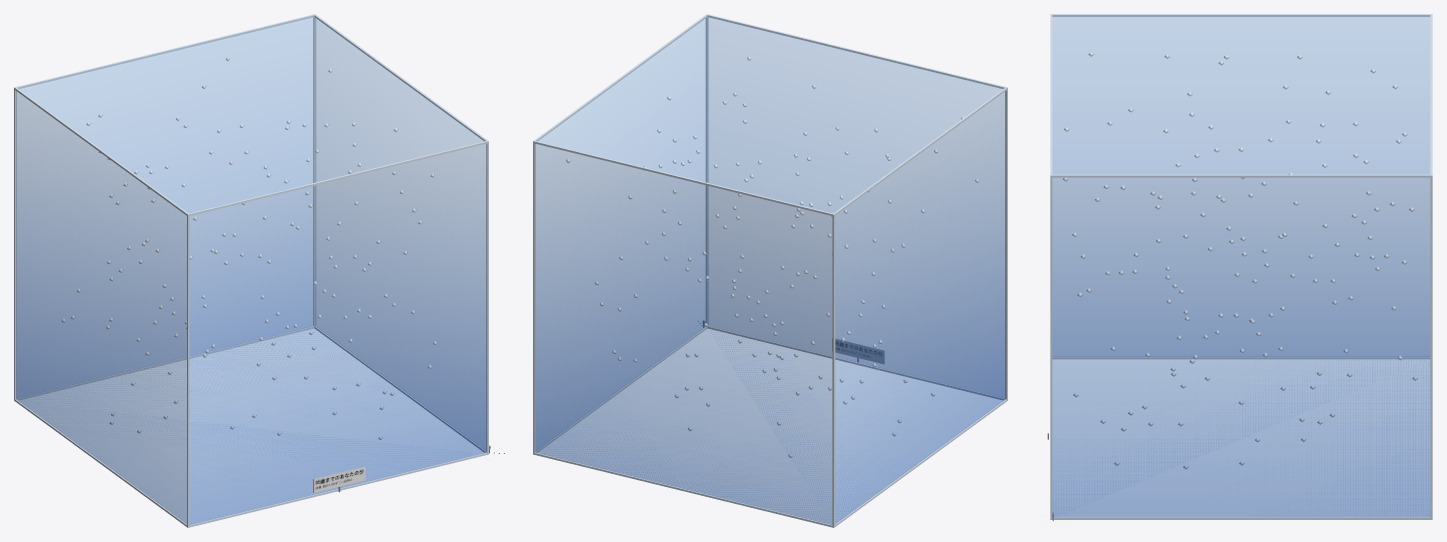
File: cube_life_95.glb
3 renders of one model, left to right at view 1: azimuth 30°, elevation 25°; view 2: azimuth 150°, elevation 25°; view 3: azimuth 270°, elevation 25°, orthographic. The views are drawn at different scales.
Parts seen in each view (by area): view 1: co2, edge, dots, label; view 2: co2, edge, dots, label; view 3: co2, edge, dots.
Part boxes in pixels (bbox=[...]): co2: bbox=[16, 15, 486, 524]; edge: bbox=[14, 14, 488, 527]; dots: bbox=[62, 57, 437, 440]; label: bbox=[313, 466, 365, 492]; co2: bbox=[535, 15, 1005, 524]; edge: bbox=[533, 14, 1007, 527]; dots: bbox=[566, 56, 979, 457]; label: bbox=[835, 339, 884, 363]; co2: bbox=[1052, 15, 1430, 517]; edge: bbox=[1050, 14, 1432, 519]; dots: bbox=[1062, 52, 1417, 469].
Bounding box in the file's own units: 71.78 × 68.02 × 70.88.
Materials: 8 (3 with a texture image).
